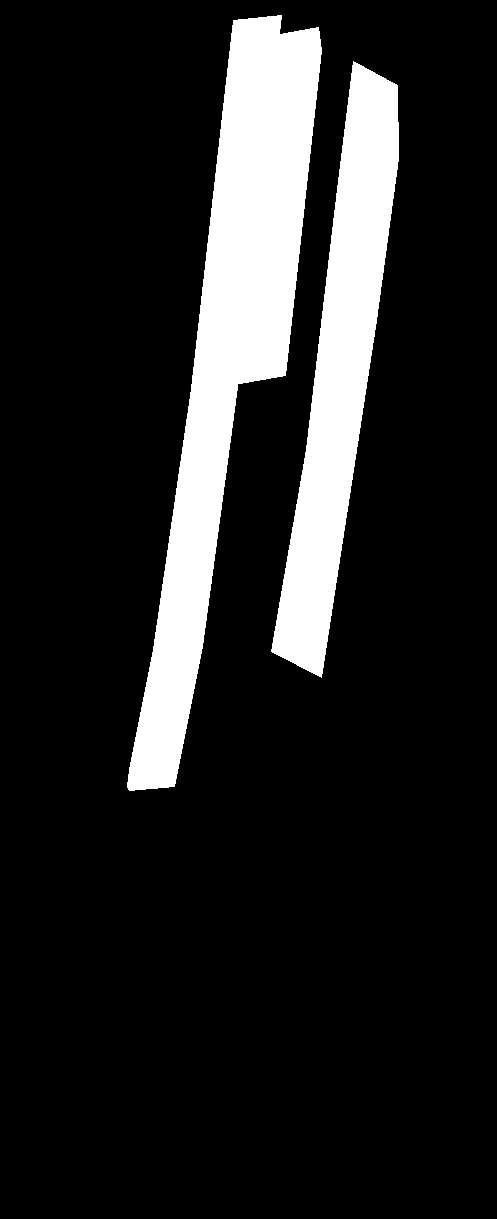parkingspot: (127, 15, 281, 790), (271, 61, 398, 677), (234, 27, 321, 384)
